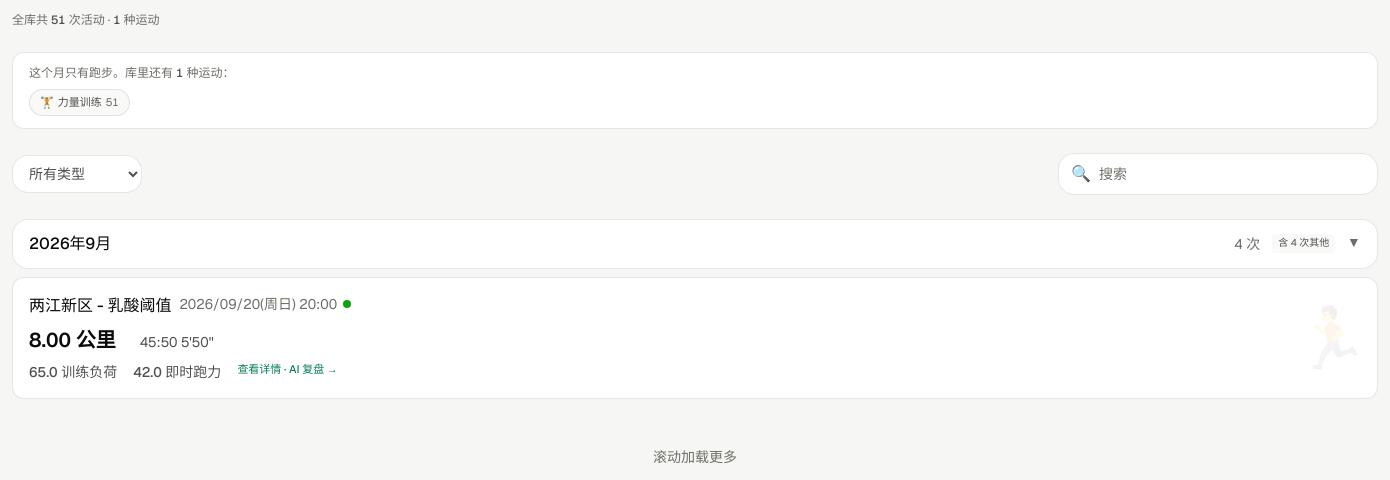
Test: ListClient 活动列表 (交互/筛选/无限滚动) › 月卡: 按搜索词筛选时不显示「含 N 次其他」徽标
Type "力量" into the search field named "搜索活动" at (1232, 174), box x1=1099 y1=164 x2=1365 y2=184
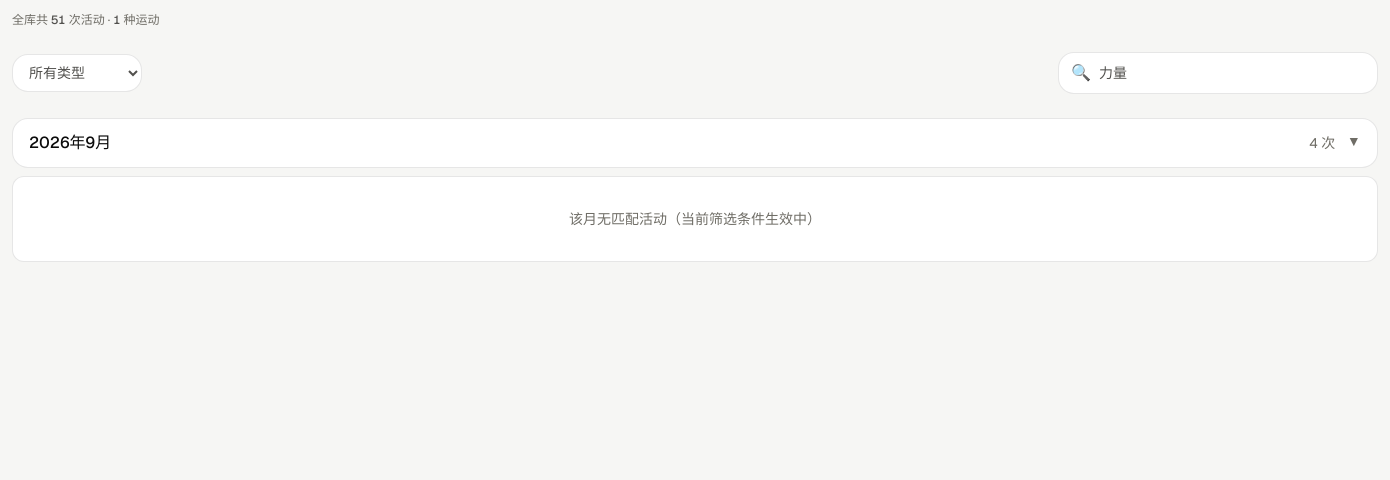
Check: the button "2026年9月 4 次 ▲" is shown, box x1=12 y1=118 x2=1378 y2=168
Check: the button "2026年9月 4 次 ▲" no longer shows "次其他", box x1=12 y1=118 x2=1378 y2=168
